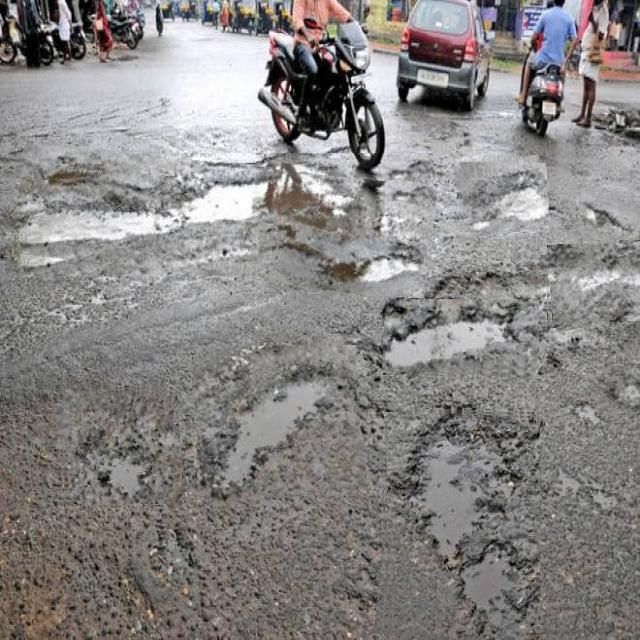Pothole: (14, 153, 434, 290), (379, 409, 540, 640), (194, 341, 364, 504), (57, 385, 182, 506), (383, 299, 539, 377), (543, 240, 640, 328), (457, 158, 549, 236), (572, 192, 640, 246), (605, 367, 640, 413)
